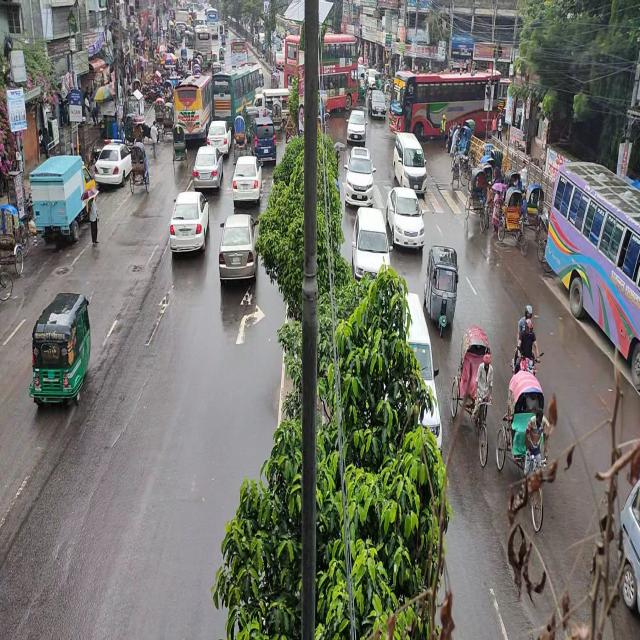blue: (248, 117, 277, 162)
silver: (220, 214, 256, 282), (195, 142, 222, 195)
white: (354, 208, 390, 288), (169, 193, 210, 256), (387, 187, 426, 252), (95, 139, 131, 191), (395, 133, 426, 193), (346, 150, 375, 207), (233, 155, 263, 210), (207, 120, 231, 151)
